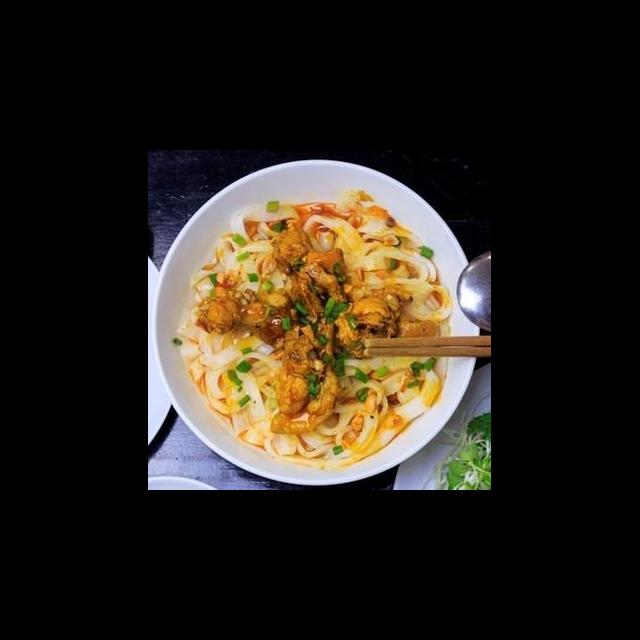mi: (302, 188, 456, 325), (294, 349, 446, 467), (175, 320, 298, 461), (188, 197, 306, 304)
